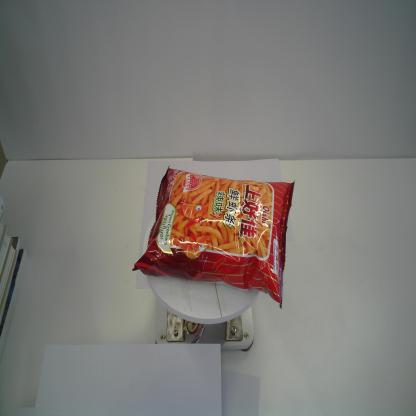Puffed Food: (130, 165, 296, 310)
